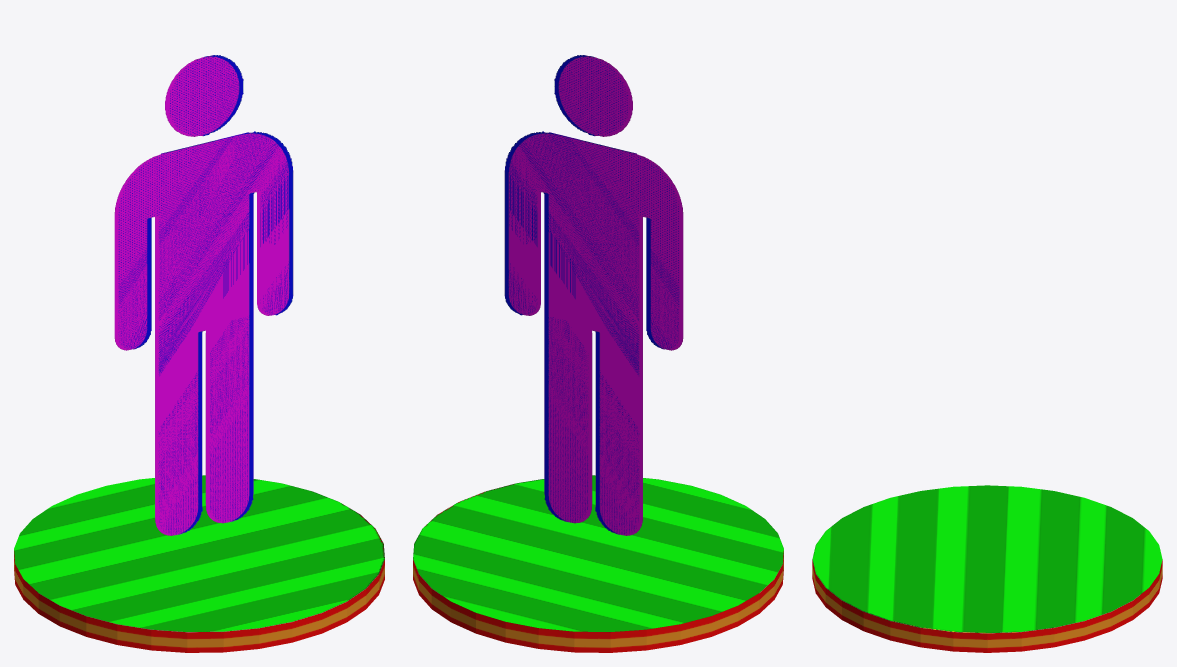
The model's file is tt_token2.obj.
3 renders of one model, left to right at view 1: azimuth 30°, elevation 25°; view 2: azimuth 150°, elevation 25°; view 3: azimuth 270°, elevation 25°, orthographic. The views are drawn at different scales.
Parts seen in each view (by area): view 1: 2figure_Plane_Plane.000, 1base_Plane_Plane.002; view 2: 2figure_Plane_Plane.000, 1base_Plane_Plane.002; view 3: 1base_Plane_Plane.002.
Part boxes in pixels (left/top/right/bottom): 2figure_Plane_Plane.000: left=114, top=55, right=293, bottom=535; 1base_Plane_Plane.002: left=14, top=475, right=384, bottom=652; 2figure_Plane_Plane.000: left=504, top=55, right=683, bottom=535; 1base_Plane_Plane.002: left=413, top=475, right=783, bottom=652; 1base_Plane_Plane.002: left=812, top=485, right=1162, bottom=652.
Size of the model in its own units: 0.9259 by 1.43 by 0.9259.
